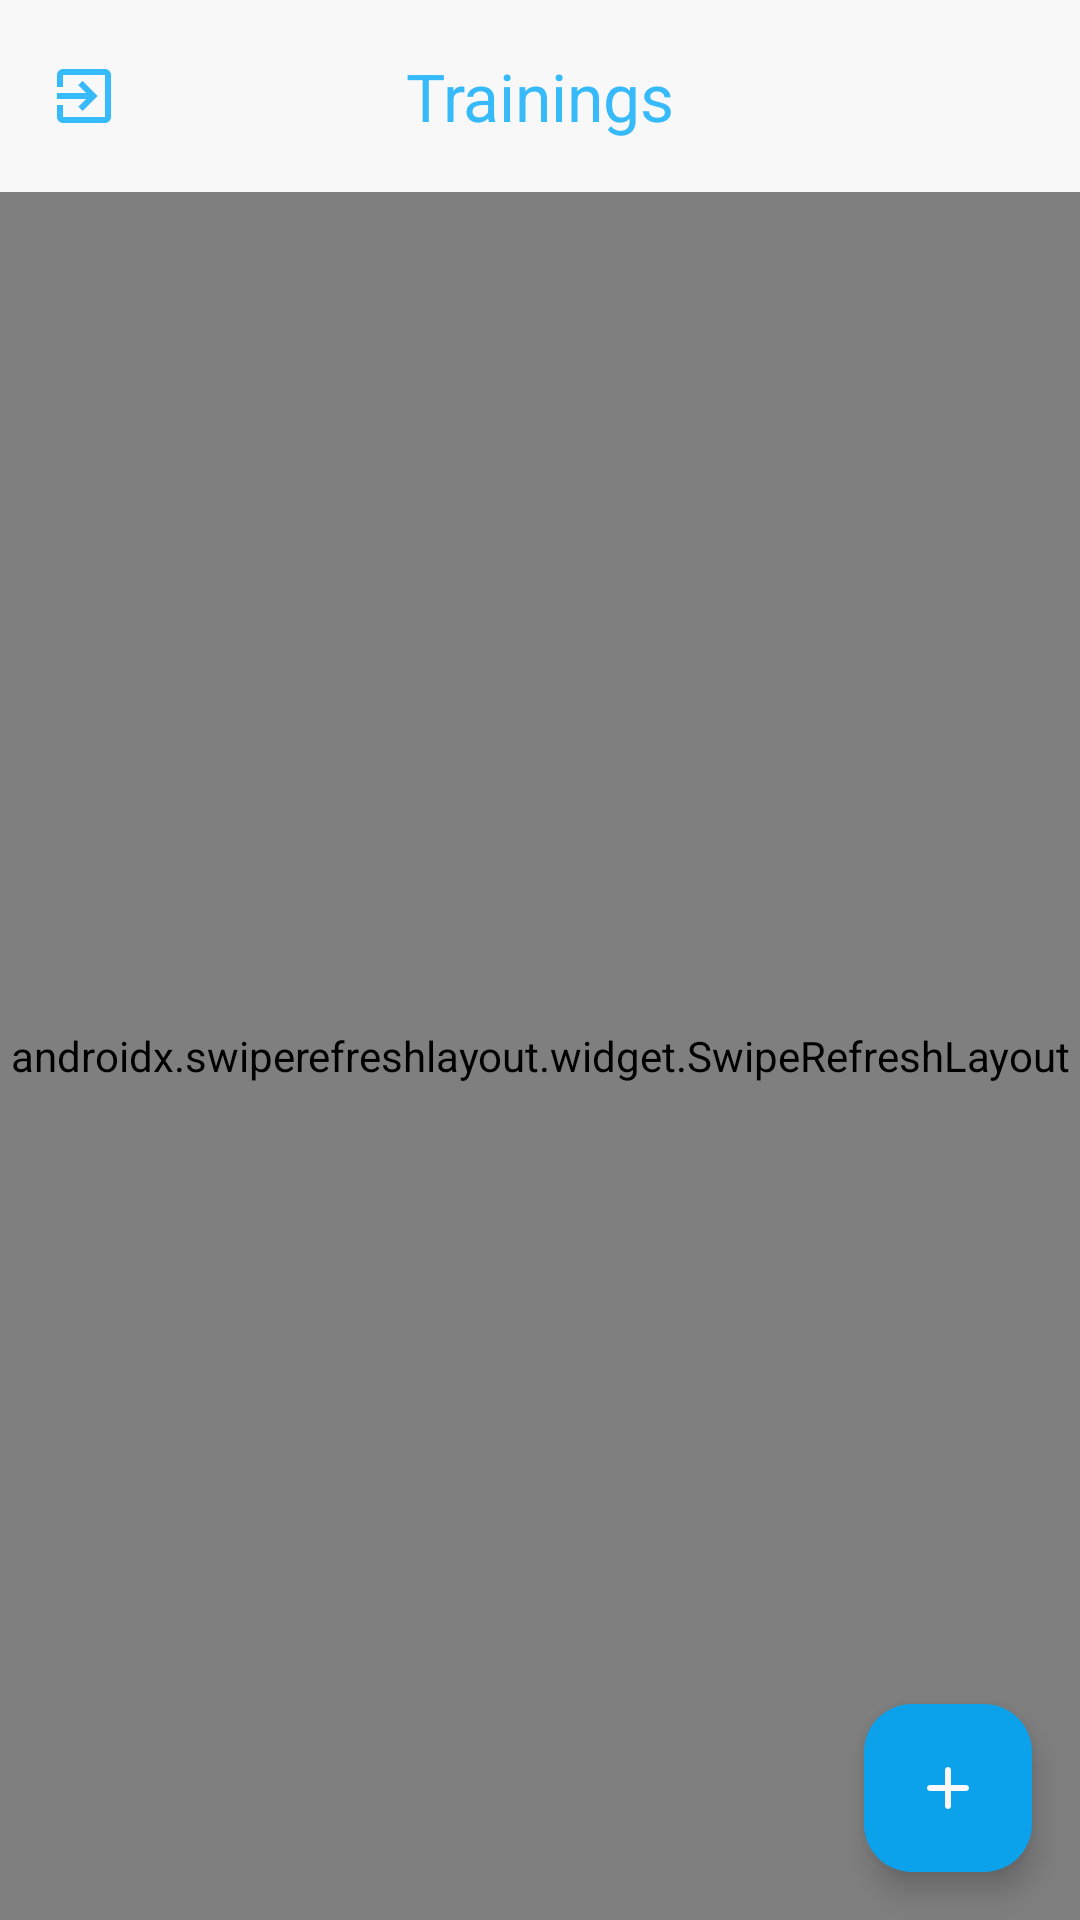

Icon bounding boxes for this 1080px×1920px phone screenshot, format (x1, y1, x2, y2):
Add Button: (864, 1704, 1032, 1872)
